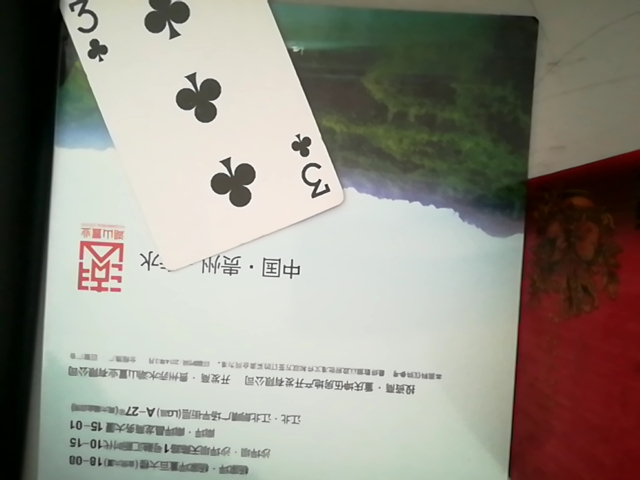mh 3: (64, 0, 326, 275)
